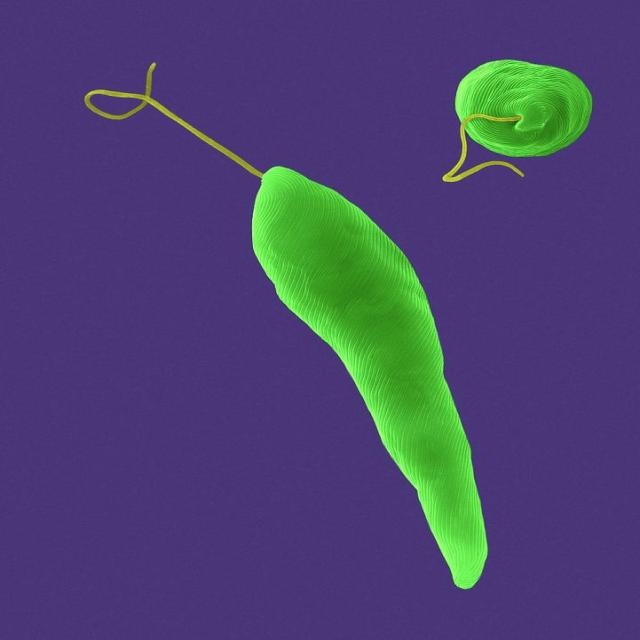Amoeba: (442, 57, 595, 183)
